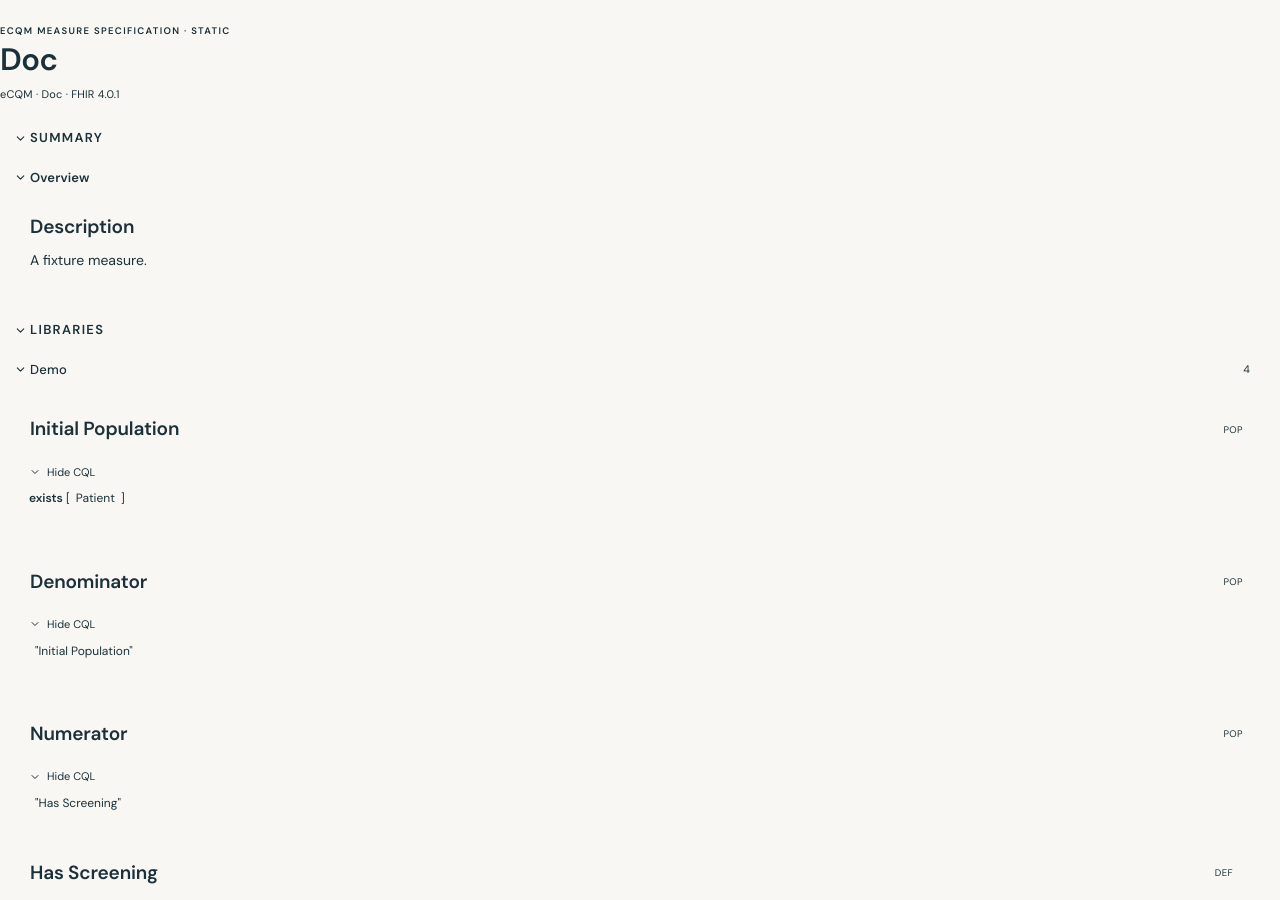
MeasureNarrative — selecting a read (SPEC-NAV-COMPOSITION) › opens the lens on a CQL token rather than moving the reader (SPEC-REF-LENS)
Click the button with class "cql-link" showing "Patient" at (95, 499), box [70,488,121,510]
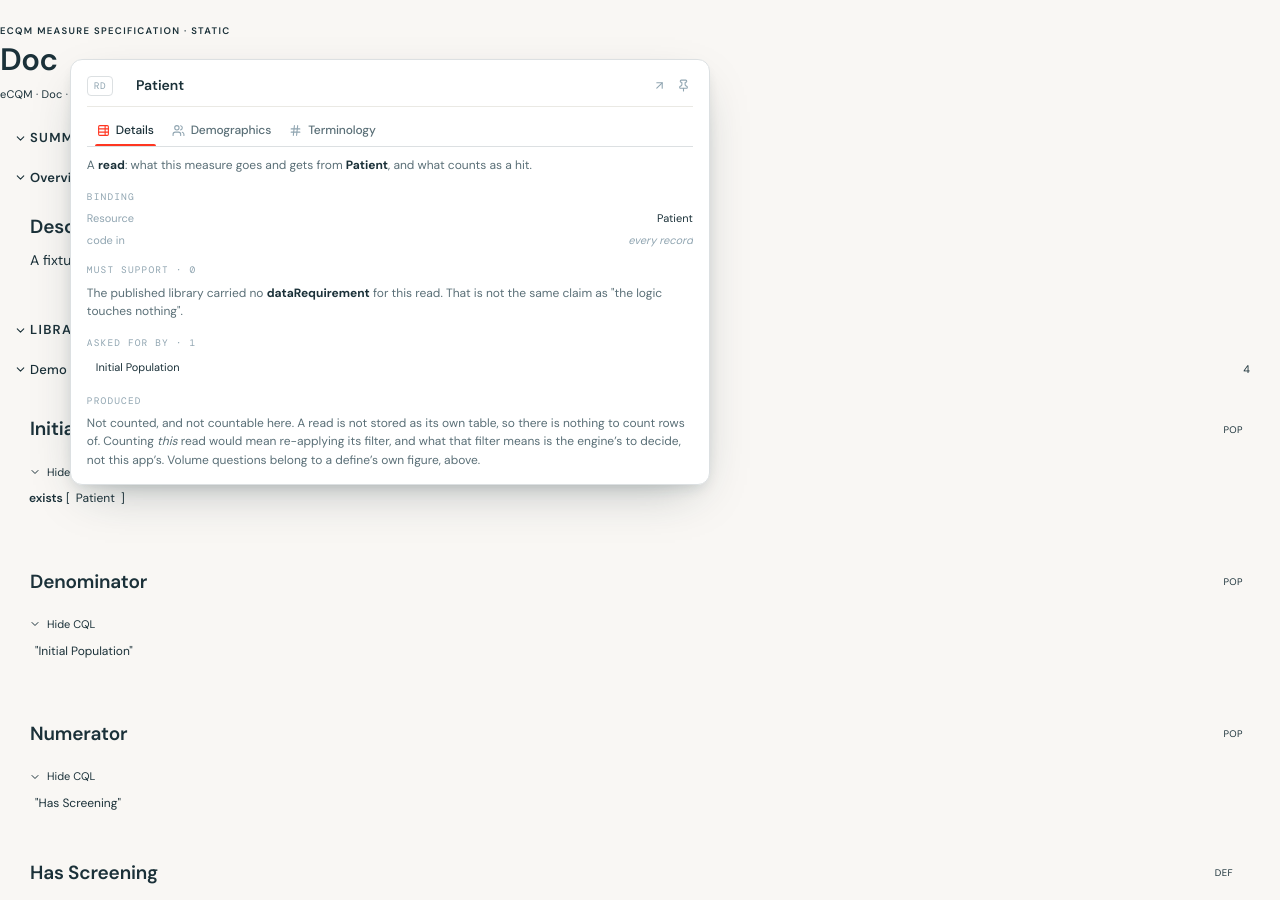
Expected: the 2nd button with class "cql-link" is expanded, [70,488,121,510]
Expected: the dialog with class "mw-reflens" is shown, [70,60,710,485]
